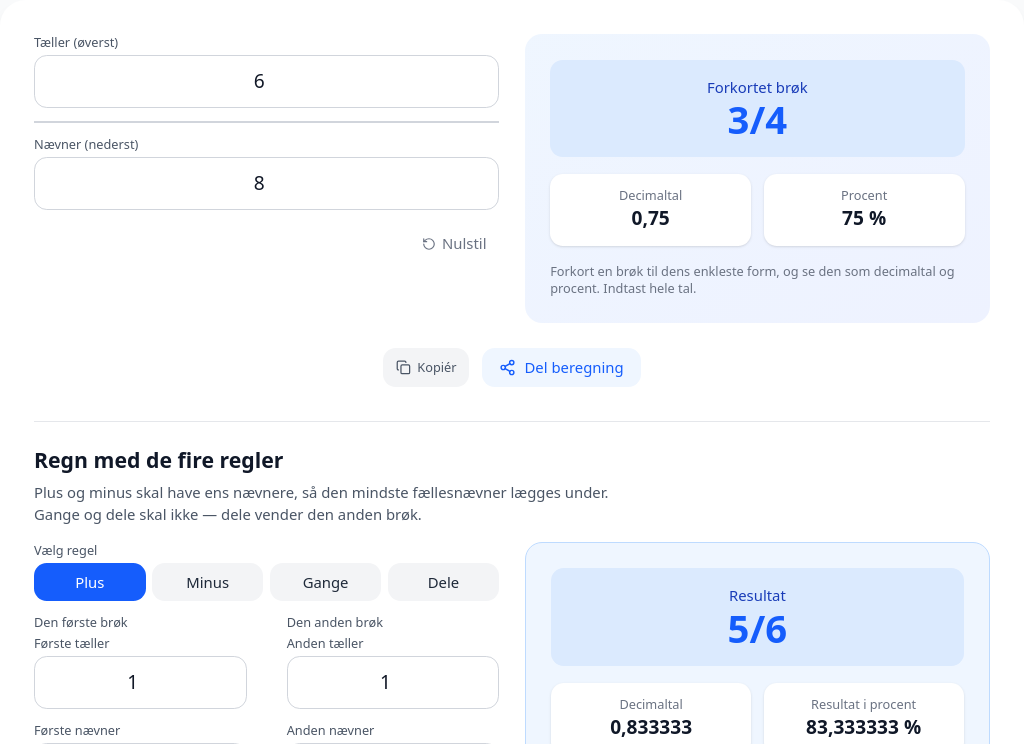
Test: /brok regner på det tal der står i feltet › et decimal i et felt rundes ind i feltet, så visning og regning er ens
Replace the text in the number field with id "brok-t1" with "1.5": (140,683) left=34, top=656, right=247, bottom=710
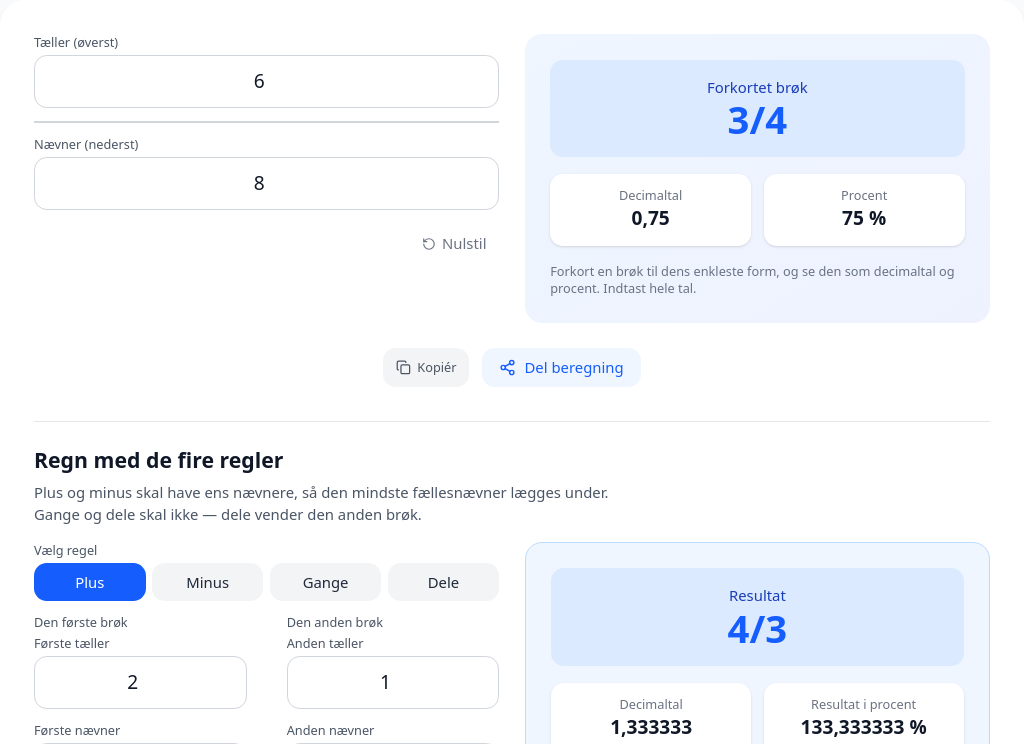
Expected: the number field with id "brok-t1" holds "2", left=34, top=656, right=247, bottom=710
Expected: the text "4/3" is shown, left=728, top=602, right=787, bottom=654
Expected: the text "5/6" is gone
